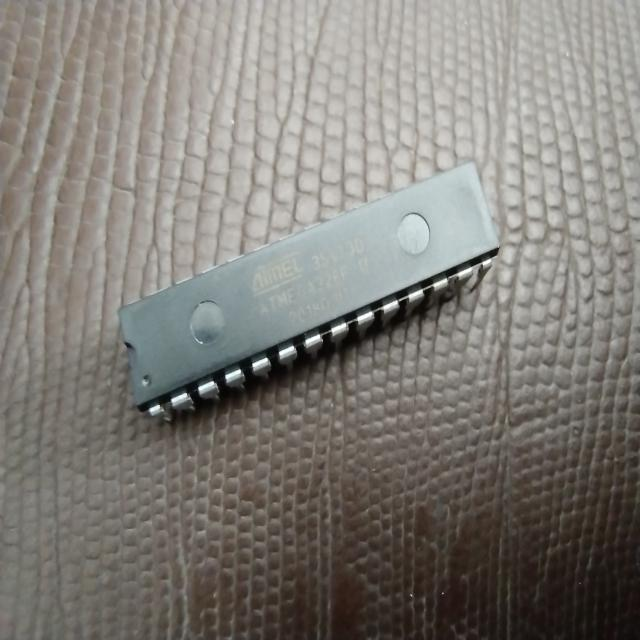atmega: (115, 158, 502, 424)
